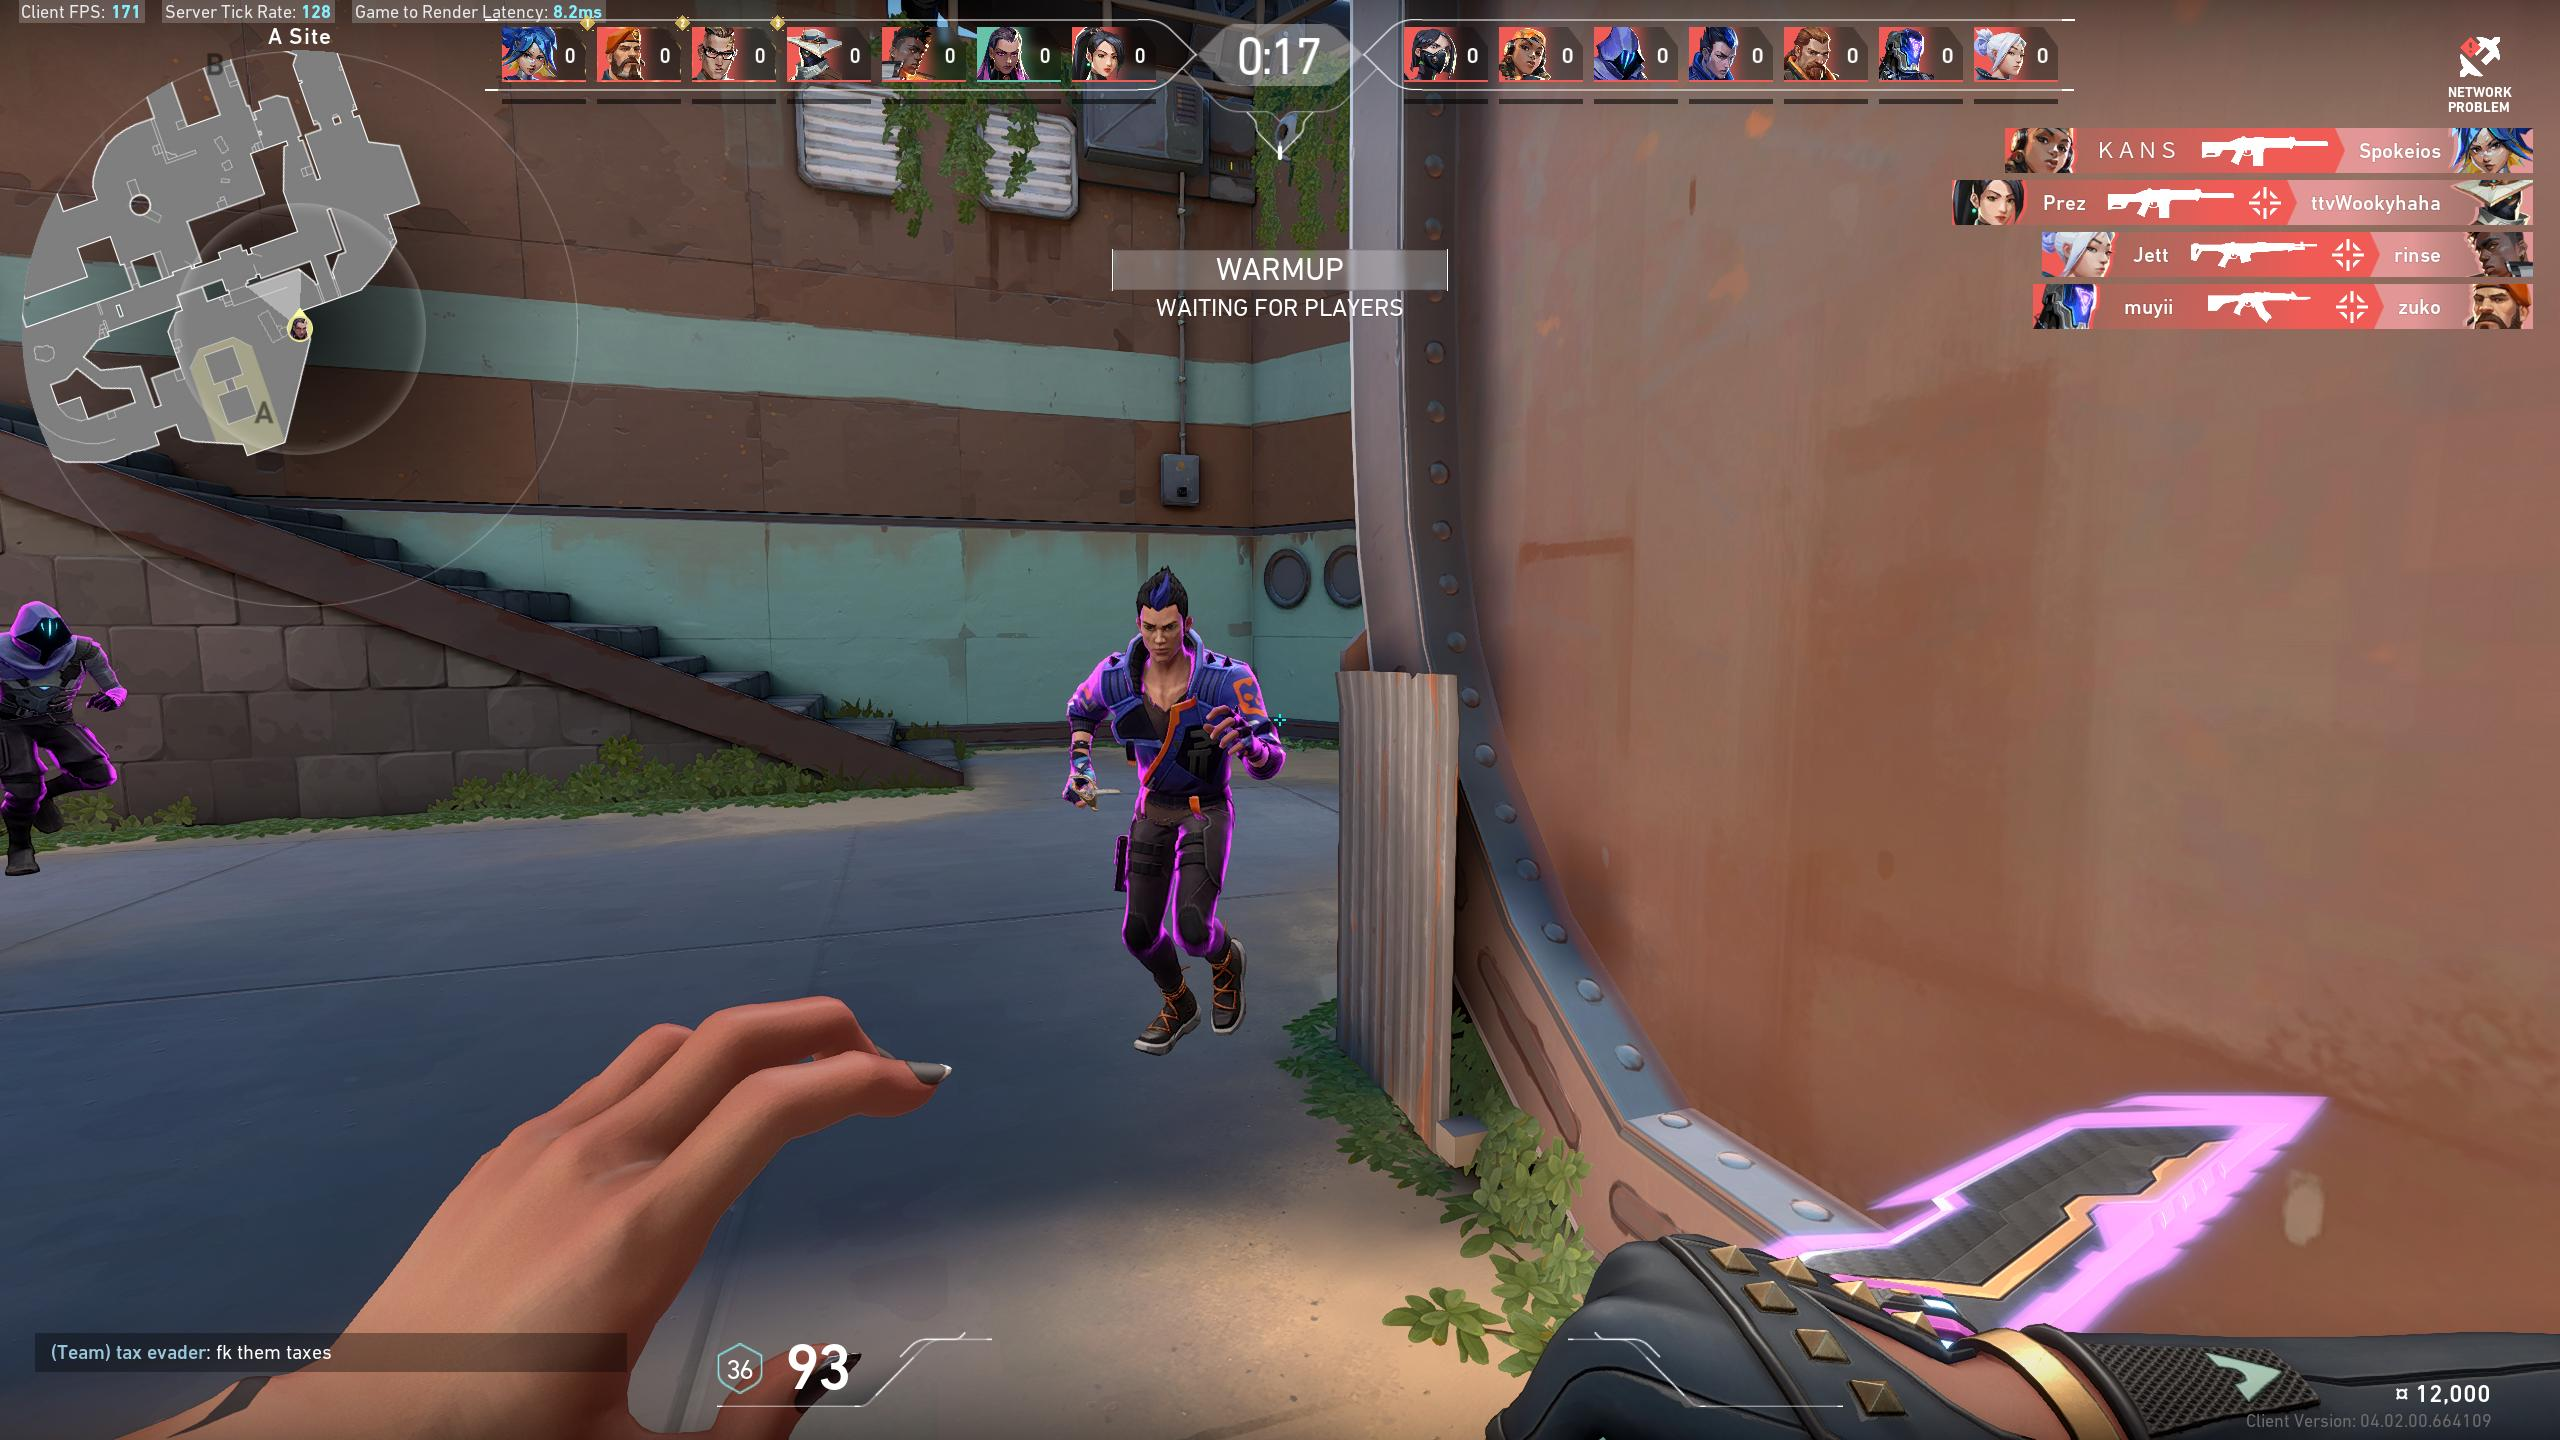enemyBody: (1134, 665, 1208, 800), (12, 654, 62, 717)
enemyHead: (1143, 601, 1182, 651), (23, 614, 58, 651)
